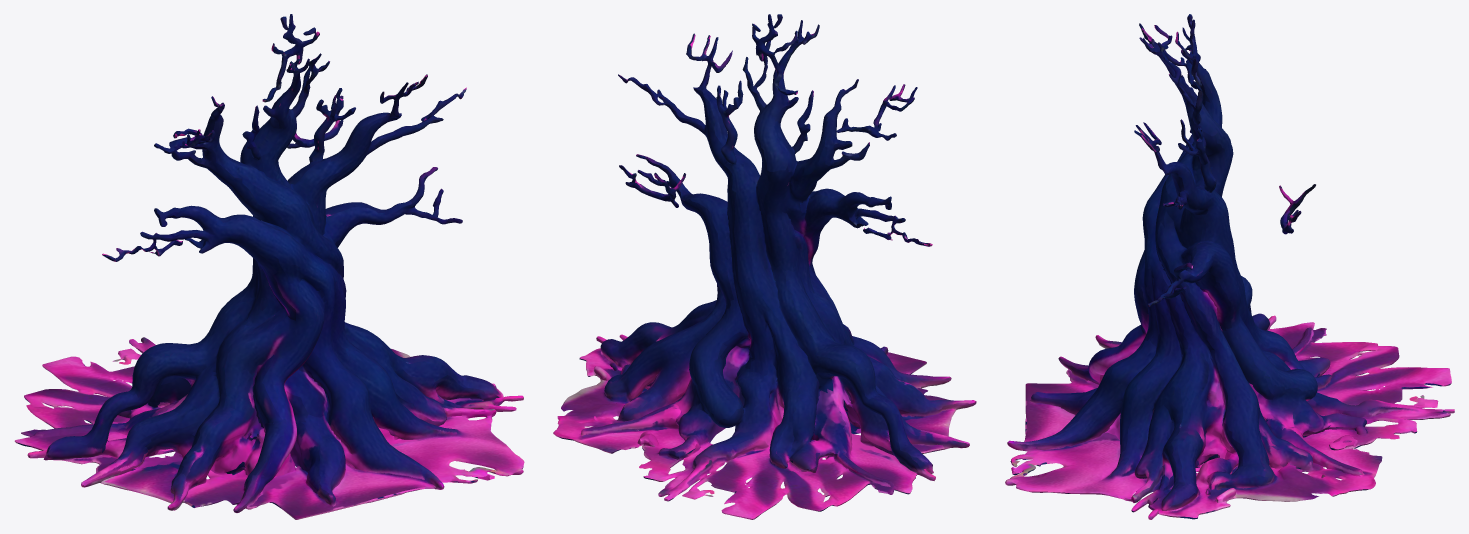
The model's file is sea-root-south-generated-2026-05-17T19-31-34-603Z.high.glb.
The picture shows the model from 3 angles, left to right: view 1: azimuth 30°, elevation 25°; view 2: azimuth 150°, elevation 25°; view 3: azimuth 270°, elevation 25°; orthographic projection. The views are drawn at different scales.
Parts seen in each view (by area): view 1: temp_mesh.ply; view 2: temp_mesh.ply; view 3: temp_mesh.ply.
Boxes of the visible parts, <box> form: temp_mesh.ply: <box>14,14,524,519</box>; temp_mesh.ply: <box>553,14,976,519</box>; temp_mesh.ply: <box>1005,14,1454,519</box>.
Size of the model in its own units: 1.97 by 1.85 by 1.86.
1 material, 1 textured.
